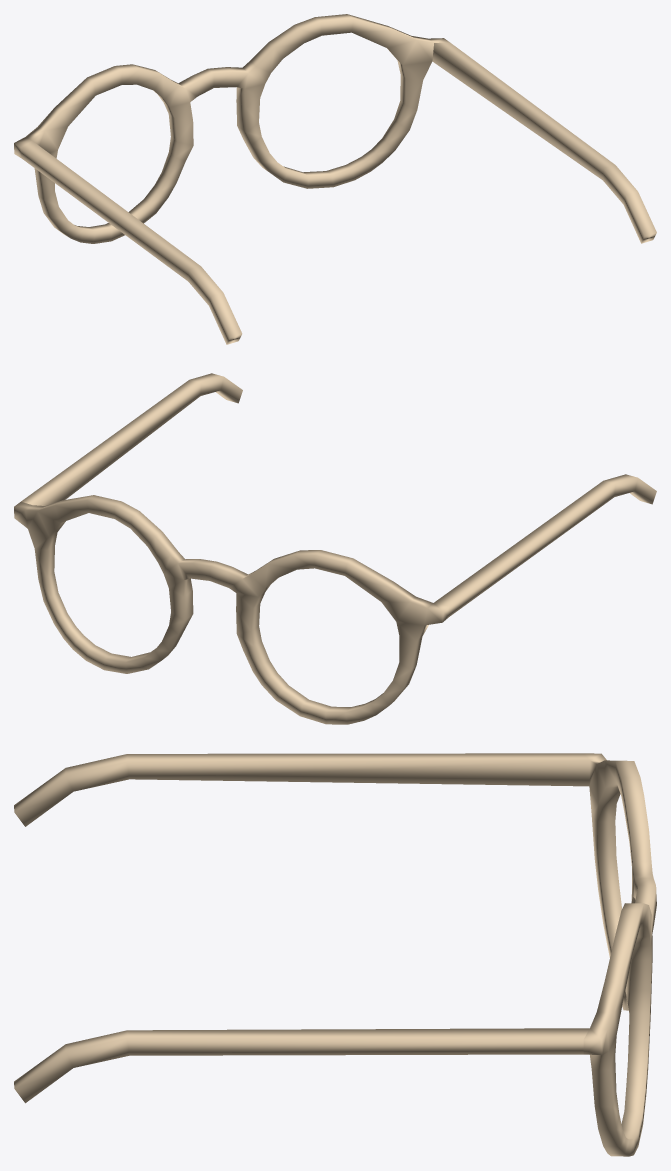
File: acc3.glb
3 views of the same model, one above another, from view 1: azimuth 30°, elevation 25°; view 2: azimuth 150°, elevation 25°; view 3: azimuth 270°, elevation 25° (orthographic). The views are drawn at different scales.
Parts seen in each view (by area): view 1: Glasses; view 2: Glasses; view 3: Glasses.
Boxes of the visible parts, x1=… form: Glasses: x1=14, y1=14, x2=656, y2=344; Glasses: x1=14, y1=373, x2=656, y2=724; Glasses: x1=14, y1=753, x2=656, y2=1156.
Bounding box in the file's own units: 1.11 × 0.4126 × 1.05.
